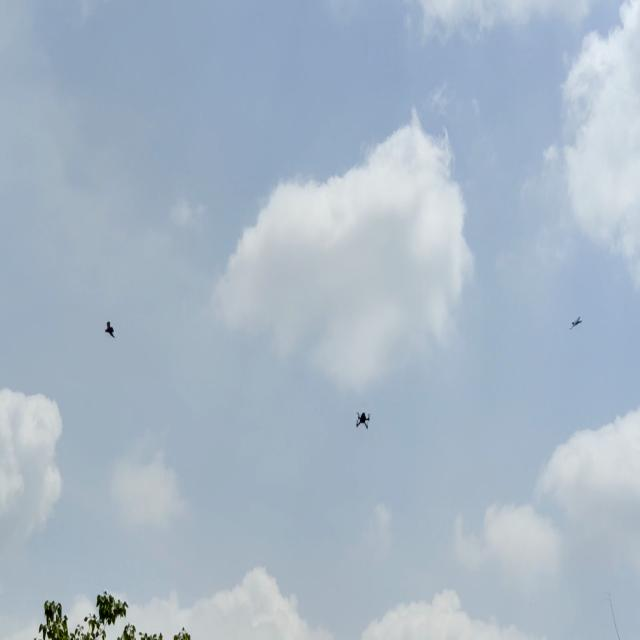drone: (350, 403, 379, 435)
